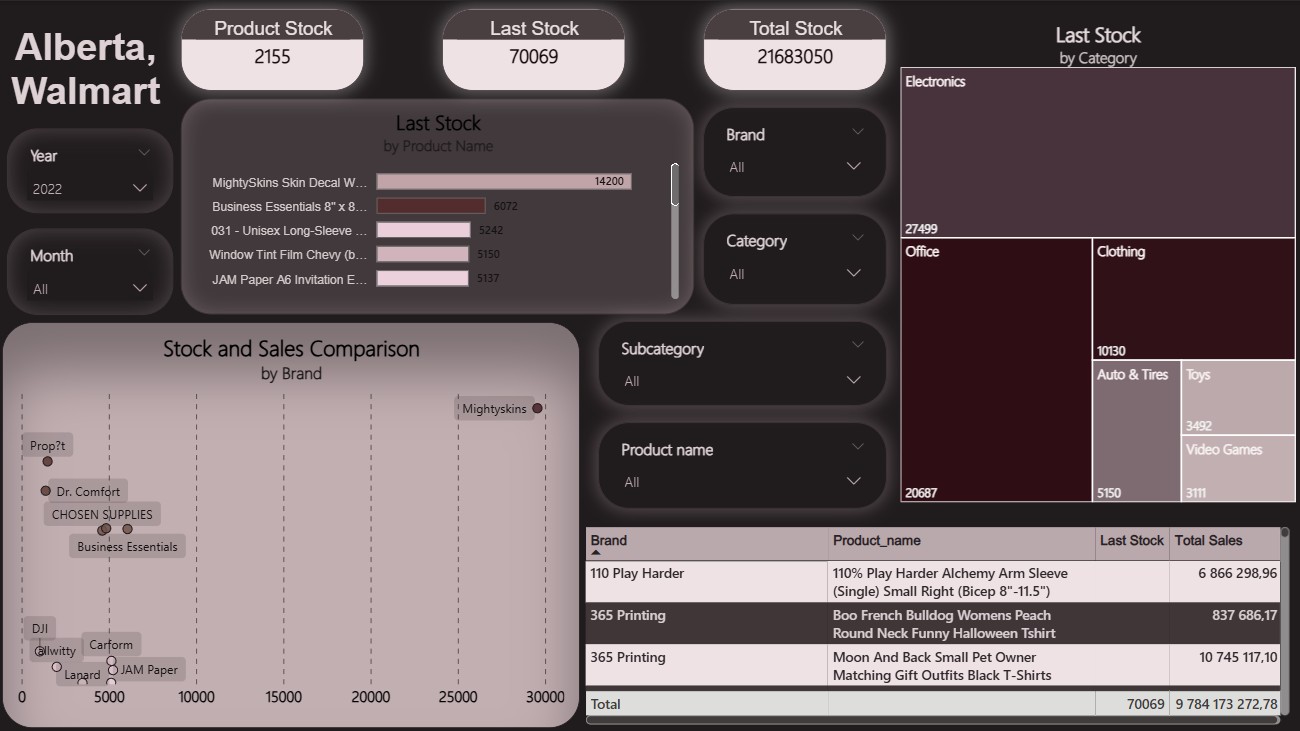

What the dashboard file says about the page in this screenshot:
{"tool":"powerbi","page":{"name":"Alberta Stock Analysis","canvas":[1280,720],"ordinal":2},"visuals":[{"type":"slicer","fields":{"Values":["Date.Year"]},"box":[9.8,125.2,163.2,83.4],"z":0},{"type":"slicer","fields":{"Values":["Date.Month"]},"box":[9.8,223.3,163.2,84.7],"z":1000},{"type":"slicer","fields":{"Values":["Walmart_SKU.Category"]},"box":[693.3,208.8,180.4,89.6],"z":2000},{"type":"slicer","fields":{"Values":["Walmart_SKU.Subcategory"]},"box":[590.2,314.5,283.4,83.4],"z":3000},{"type":"slicer","fields":{"Values":["Walmart_SKU.Brand"]},"box":[693.3,104.4,180.4,88.3],"z":4000},{"type":"slicer","fields":{"Values":["Walmart_SKU.Product_name"]},"box":[590.2,414,283.4,84.7],"z":5000},{"type":"card","title":"Product Stock","fields":{"Values":["_Measures.Stock Products"]},"box":[180.4,7.4,180.4,81],"z":6000},{"type":"card","title":"Total Stock","fields":{"Values":["_Measures.Stock"]},"box":[693.3,7.4,180.4,81],"z":7000},{"type":"card","title":"Last Stock","fields":{"Values":["_Measures.Last Stock"]},"box":[436.8,7.4,180.4,81],"z":8000},{"type":"scatterChart","title":"Stock and Sales Comparison","fields":{"Category":["Walmart_SKU.Brand"],"Y":["_Measures.Total Sales"],"X":["_Measures.Last Stock"]},"box":[4.9,315.3,566.9,398.8],"z":9000},{"type":"clusteredBarChart","title":"Last Stock","fields":{"Category":["Walmart_SKU.Product_name"],"Y":["_Measures.Last Stock"]},"box":[180.4,95.7,504.3,212.3],"z":10000},{"type":"treemap","title":"Last Stock","fields":{"Group":["Walmart_SKU.Category"],"Values":["_Measures.Last Stock"]},"box":[882.2,18.4,397.5,478.5],"z":11000},{"type":"textbox","box":[1.2,18.4,171.8,101.8],"z":12000},{"type":"tableEx","fields":{"Values":["Walmart_SKU.Brand","Walmart_SKU.Product_name","_Measures.Last Stock","_Measures.Total Sales"]},"box":[571.8,511.7,701.8,203.7],"z":13000}]}

Visuals, with their boxes in screenshot pixels (x1, y1, x2, y2), scaled from the page's 1280x720 canvas onto the 1300x731 screenshot:
slicer - Date.Year: 10 127 176 212
slicer - Date.Month: 10 227 176 313
slicer - Walmart_SKU.Category: 704 212 887 303
slicer - Walmart_SKU.Subcategory: 599 319 887 404
slicer - Walmart_SKU.Brand: 704 106 887 196
slicer - Walmart_SKU.Product_name: 599 420 887 506
"Product Stock" card: 183 8 366 90
"Total Stock" card: 704 8 887 90
"Last Stock" card: 444 8 627 90
"Stock and Sales Comparison" scatterChart: 5 320 581 725
"Last Stock" clusteredBarChart: 183 97 695 313
"Last Stock" treemap: 896 19 1299 504
textbox: 1 19 176 122
tableEx - Walmart_SKU.Brand x Walmart_SKU.Product_name: 581 520 1294 726
